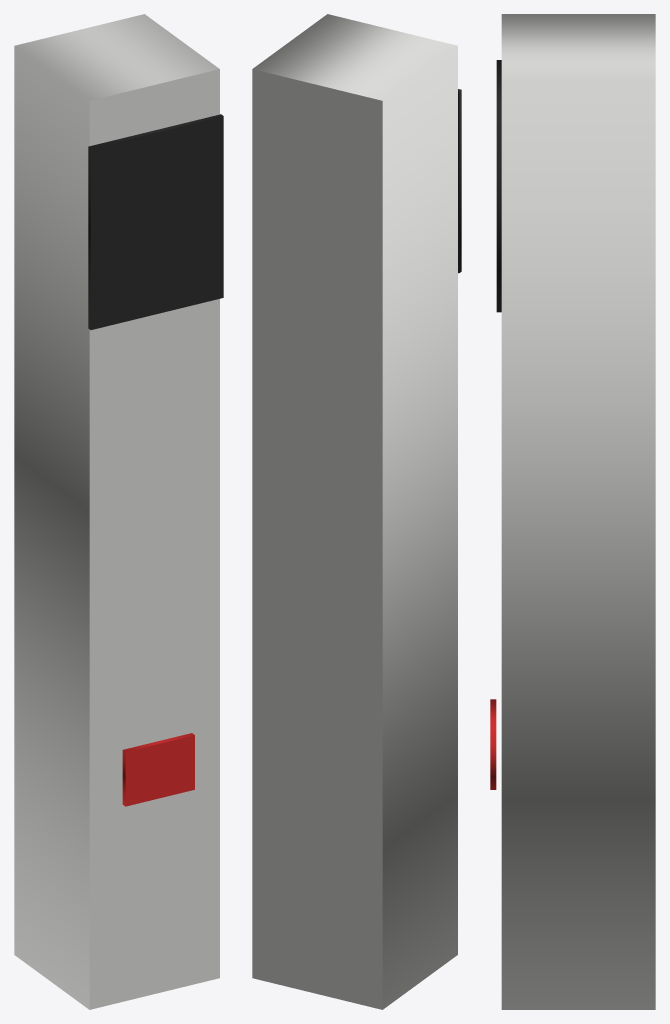
The model's file is J1bis.glb.
3 views of the same model, side by side, from view 1: azimuth 30°, elevation 25°; view 2: azimuth 150°, elevation 25°; view 3: azimuth 270°, elevation 25° (orthographic). The views are drawn at different scales.
Visible parts, largest first — view 1: J1bis_r00, J1bis_r375, J1bis_r388; view 2: J1bis_r00, J1bis_r375; view 3: J1bis_r00, J1bis_r375, J1bis_r388.
Boxes of the visible parts, x1,y1,x2,y2 form: J1bis_r00: [14, 14, 219, 1009]; J1bis_r375: [88, 114, 223, 329]; J1bis_r388: [122, 733, 194, 806]; J1bis_r00: [252, 14, 457, 1009]; J1bis_r375: [458, 89, 461, 273]; J1bis_r00: [501, 14, 655, 1009]; J1bis_r375: [496, 60, 501, 312]; J1bis_r388: [490, 699, 496, 789].
Bounding box in the file's own units: 0.153 × 1 × 0.1612.
